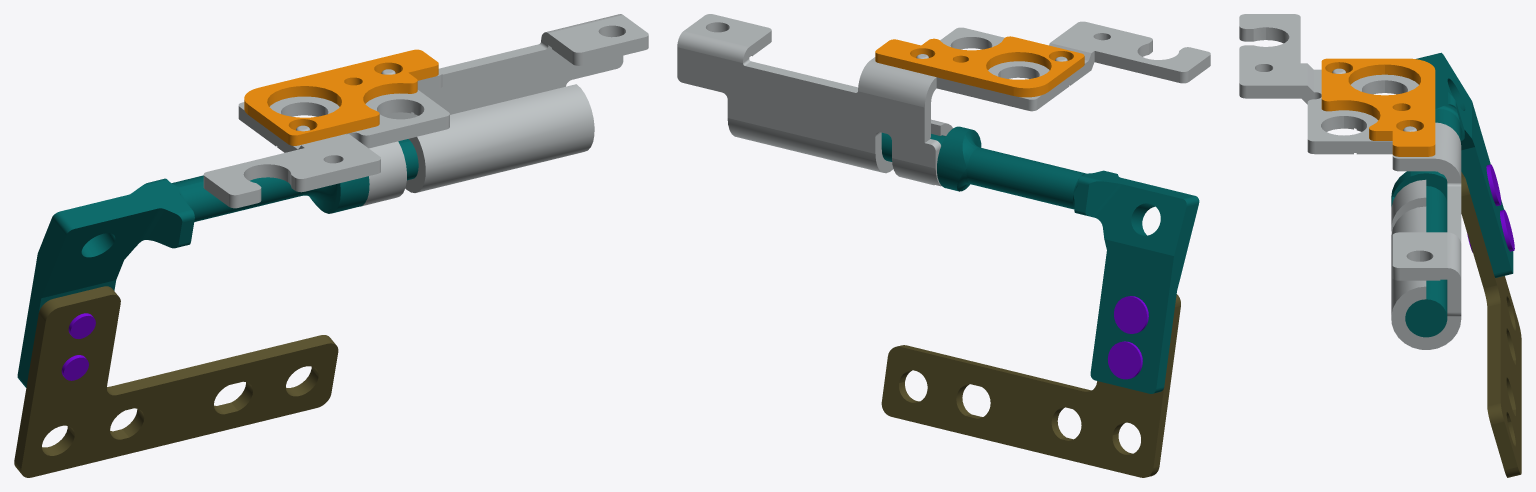
The model's file is framework-hinge-left.glb.
3 renders of one model, left to right at view 1: azimuth 30°, elevation 25°; view 2: azimuth 150°, elevation 25°; view 3: azimuth 270°, elevation 25°, orthographic. The views are drawn at different scales.
Parts seen in each view (by area): view 1: STEP part 1, GFW30_HINGE_L_BASE_BRK, GFW30_HINGE_L_AXIS, GFW30_LCD_HINGE_SUP_BRK_L2; view 2: STEP part 1, GFW30_HINGE_L_AXIS, GFW30_HINGE_L_BASE_BRK, GFW30_LCD_HINGE_SUP_BRK_L2, GFW30_BASE_HINGE_RIVET_L (×2); view 3: STEP part 1, GFW30_HINGE_L_AXIS, GFW30_LCD_HINGE_SUP_BRK_L2, GFW30_HINGE_L_BASE_BRK, GFW30_BASE_HINGE_RIVET_L (×2).
Part boxes in pixels (left/top/right/bottom): STEP part 1: left=203, top=14, right=648, bottom=208; GFW30_HINGE_L_BASE_BRK: left=14, top=286, right=338, bottom=477; GFW30_HINGE_L_AXIS: left=17, top=139, right=418, bottom=387; GFW30_LCD_HINGE_SUP_BRK_L2: left=244, top=49, right=438, bottom=145; STEP part 1: left=677, top=14, right=1210, bottom=186; GFW30_HINGE_L_AXIS: left=881, top=126, right=1199, bottom=393; GFW30_HINGE_L_BASE_BRK: left=881, top=294, right=1180, bottom=477; GFW30_LCD_HINGE_SUP_BRK_L2: left=875, top=36, right=1084, bottom=97; GFW30_BASE_HINGE_RIVET_L (×2): left=1108, top=296, right=1148, bottom=379; STEP part 1: left=1239, top=14, right=1461, bottom=349; GFW30_HINGE_L_AXIS: left=1391, top=52, right=1513, bottom=337; GFW30_LCD_HINGE_SUP_BRK_L2: left=1321, top=58, right=1435, bottom=156; GFW30_HINGE_L_BASE_BRK: left=1461, top=172, right=1521, bottom=477; GFW30_BASE_HINGE_RIVET_L (×2): left=1467, top=164, right=1514, bottom=252.
Size of the model in its own units: 45.8 by 28.34 by 20.08.
